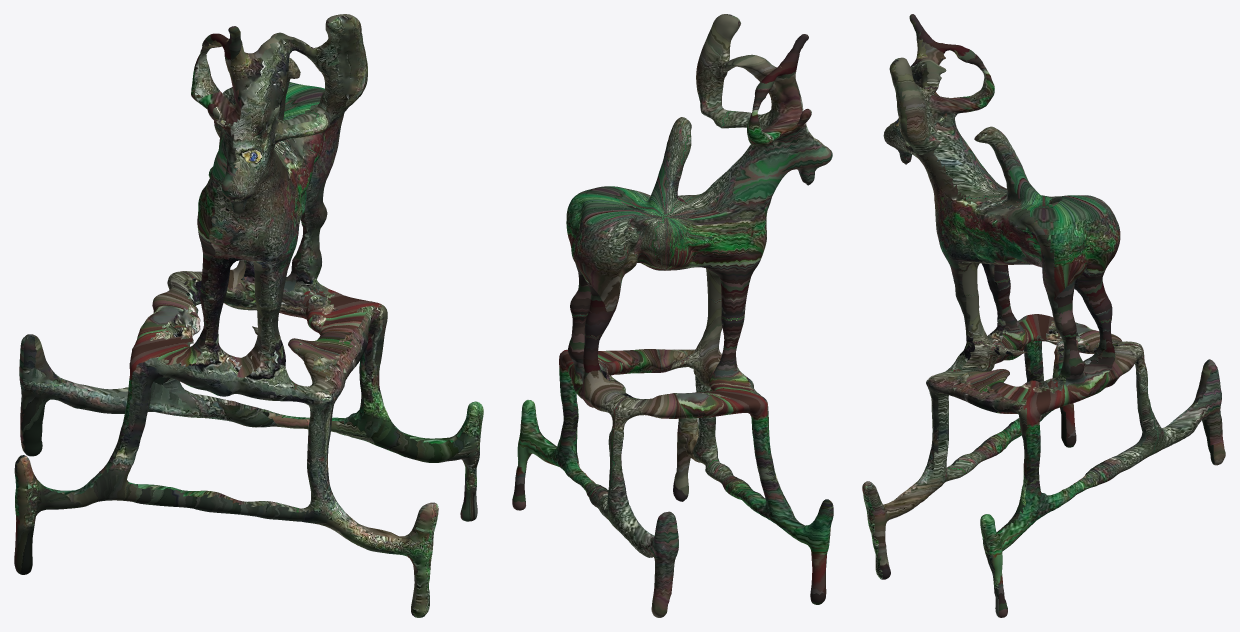
Rendered from ane-06.glb.
The picture shows the model from 3 angles, left to right: view 1: azimuth 30°, elevation 25°; view 2: azimuth 150°, elevation 25°; view 3: azimuth 270°, elevation 25°; orthographic projection. The views are drawn at different scales.
Parts seen in each view (by area): view 1: ane-06; view 2: ane-06; view 3: ane-06.
Boxes of the visible parts, x1,y1,x2,y2 form: ane-06: (14,14,483,617); ane-06: (512,14,833,617); ane-06: (862,14,1225,617).
Size of the model in its own units: 0.7121 by 0.9927 by 0.6565.
2 materials, 2 textured.
